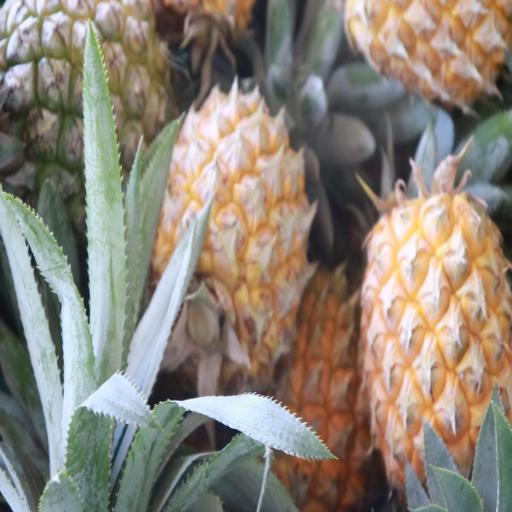Pineapple - v8 v1: (363, 194, 512, 508), (154, 96, 310, 380), (254, 273, 375, 508)
